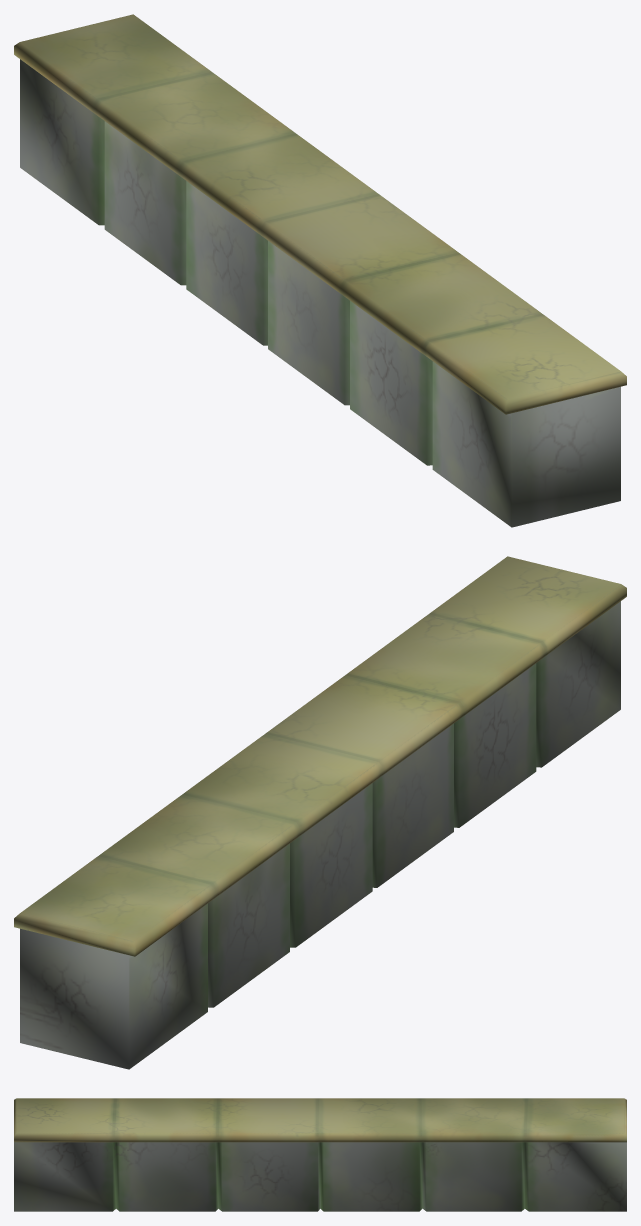
Rendered from MiddleWall.fbx.
3 views of the same model, one above another, from view 1: azimuth 30°, elevation 25°; view 2: azimuth 150°, elevation 25°; view 3: azimuth 270°, elevation 25° (orthographic). The views are drawn at different scales.
Parts seen in each view (by area): view 1: Cube; view 2: Cube; view 3: Cube.
Boxes of the visible parts, x1=… form: Cube: x1=14, y1=14, x2=626, y2=527; Cube: x1=14, y1=556, x2=626, y2=1069; Cube: x1=14, y1=1098, x2=626, y2=1211.
Bounding box in the file's own units: 99.81 × 100 × 702.
